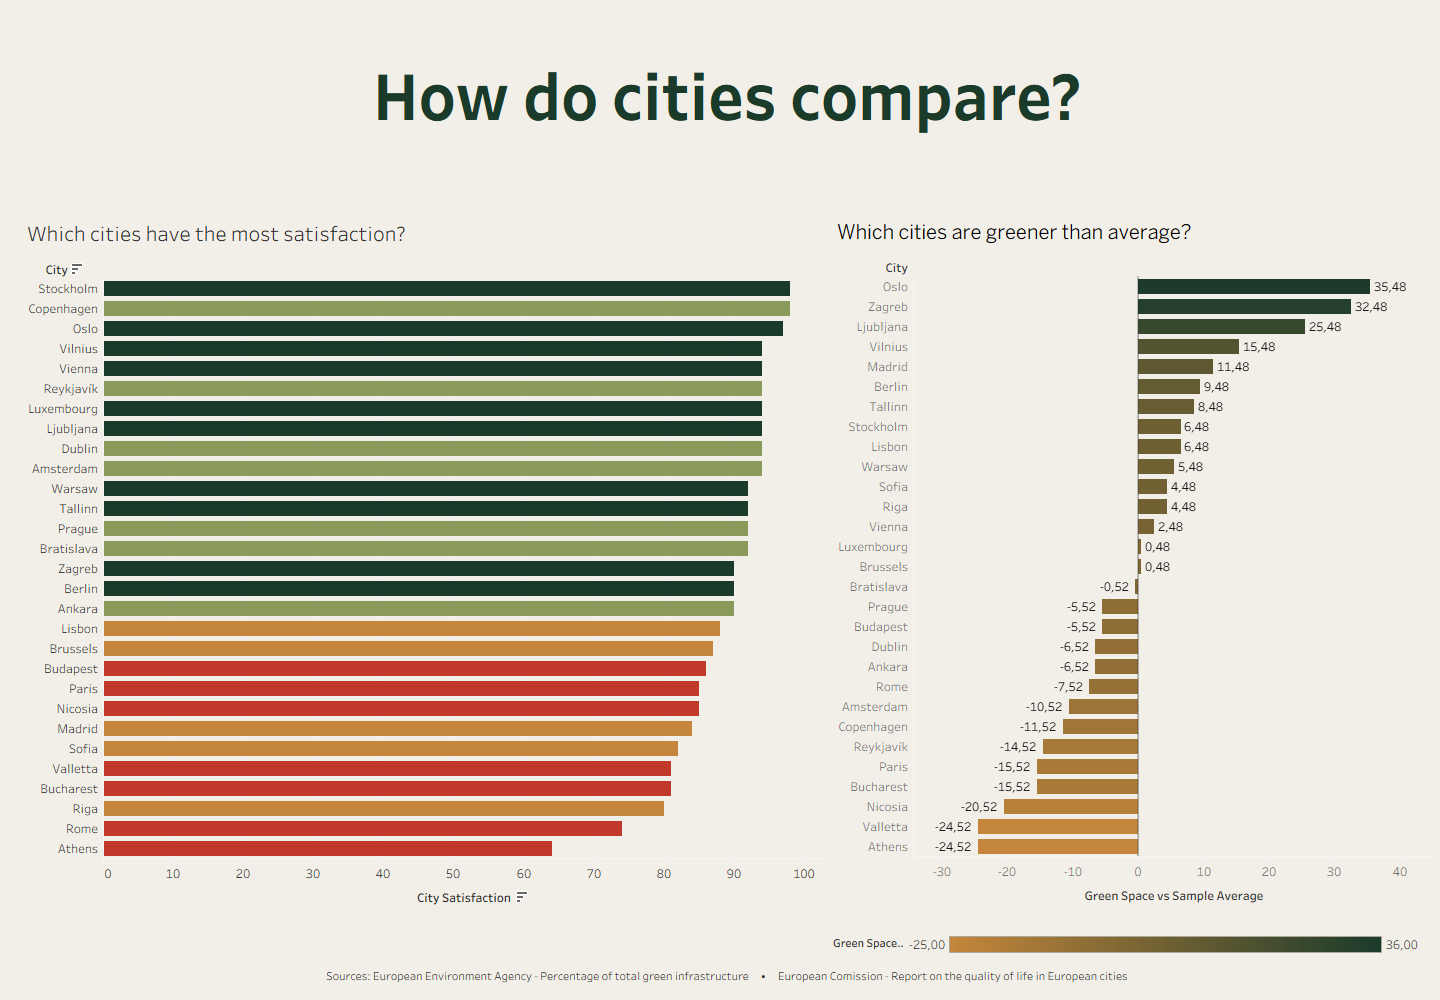

This screenshot's page, from the dashboard's own definition file:
{"tool":"tableau","page":{"name":"Are Greener Cities Happier? (3)","canvas":[1440,1000],"ordinal":1},"visuals":[{"type":"text","box":[8,8,1424,171]},{"type":"worksheet","title":"Which cities have the most satisfaction?","mark":"Automatic","rows":["city"],"cols":["city_satisfaction"],"box":[8,211,814,717]},{"type":"worksheet","title":"Greenery Deviation","mark":"Bar","rows":["city"],"box":[822,211,610,717]},{"type":"legend","title":"Greenery Deviation","param":"[federated.0vmv1s61k4cgq71538hwd0nbnscx].[usr:Calculation_0693574351511552:qk:1]","box":[822,928,610,32]},{"type":"text","box":[8,960,1424,32]}]}

Visuals, with their boxes in screenshot pixels (x1, y1, x2, y2), scaled from the page's 1440x1000 canvas onto the 1440x1000 screenshot:
text: [x1=8, y1=8, x2=1432, y2=179]
"Which cities have the most satisfaction?" worksheet: [x1=8, y1=211, x2=822, y2=928]
"Greenery Deviation" worksheet (Bar marks): [x1=822, y1=211, x2=1432, y2=928]
"Greenery Deviation" legend: [x1=822, y1=928, x2=1432, y2=960]
text: [x1=8, y1=960, x2=1432, y2=992]
